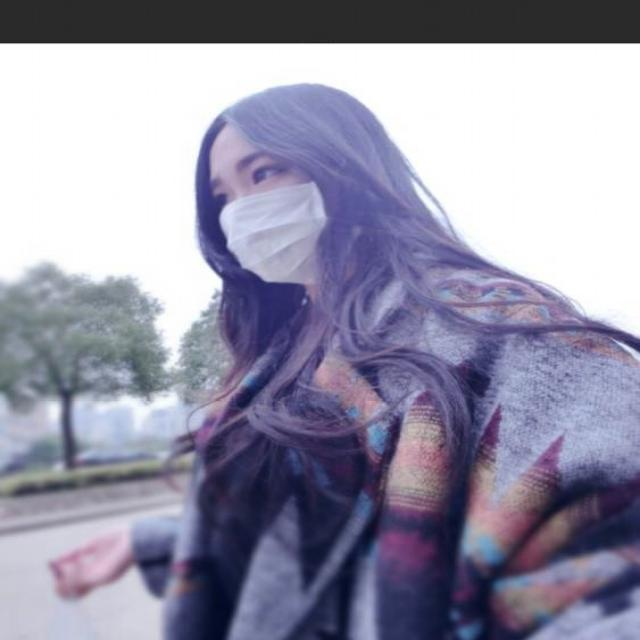mask: (215, 120, 326, 285)
